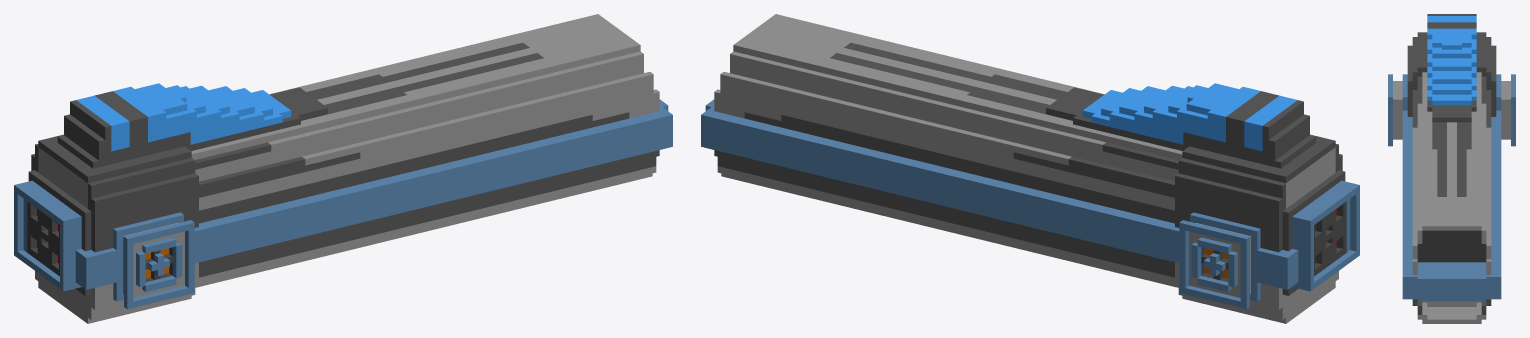
Rendered from ShipBody1.obj.
The picture shows the model from 3 angles, left to right: view 1: azimuth 30°, elevation 25°; view 2: azimuth 150°, elevation 25°; view 3: azimuth 270°, elevation 25°; orthographic projection. The views are drawn at different scales.
Bounding box in the file's own units: 9.9 × 2.9 × 2.6.
Materials: 1 (1 with a texture image).
